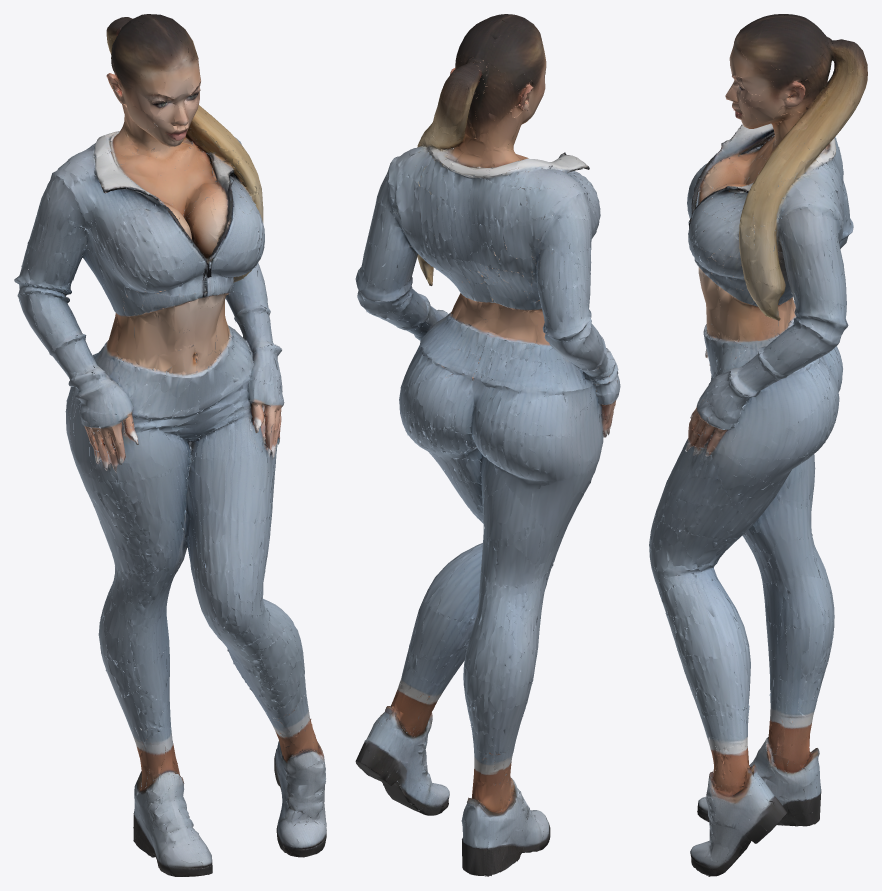
File: women3.obj
The picture shows the model from 3 angles, left to right: view 1: azimuth 30°, elevation 25°; view 2: azimuth 150°, elevation 25°; view 3: azimuth 270°, elevation 25°; orthographic projection. The views are drawn at different scales.
Parts seen in each view (by area): view 1: Object_5; view 2: Object_5; view 3: Object_5.
Boxes of the visible parts, left/top/right/bottom form: Object_5: left=14, top=14, right=326, bottom=876; Object_5: left=355, top=14, right=620, bottom=876; Object_5: left=649, top=14, right=867, bottom=876.
Size of the model in its own units: 0.6524 by 2 by 0.4969.
Materials: 1 (1 with a texture image).
